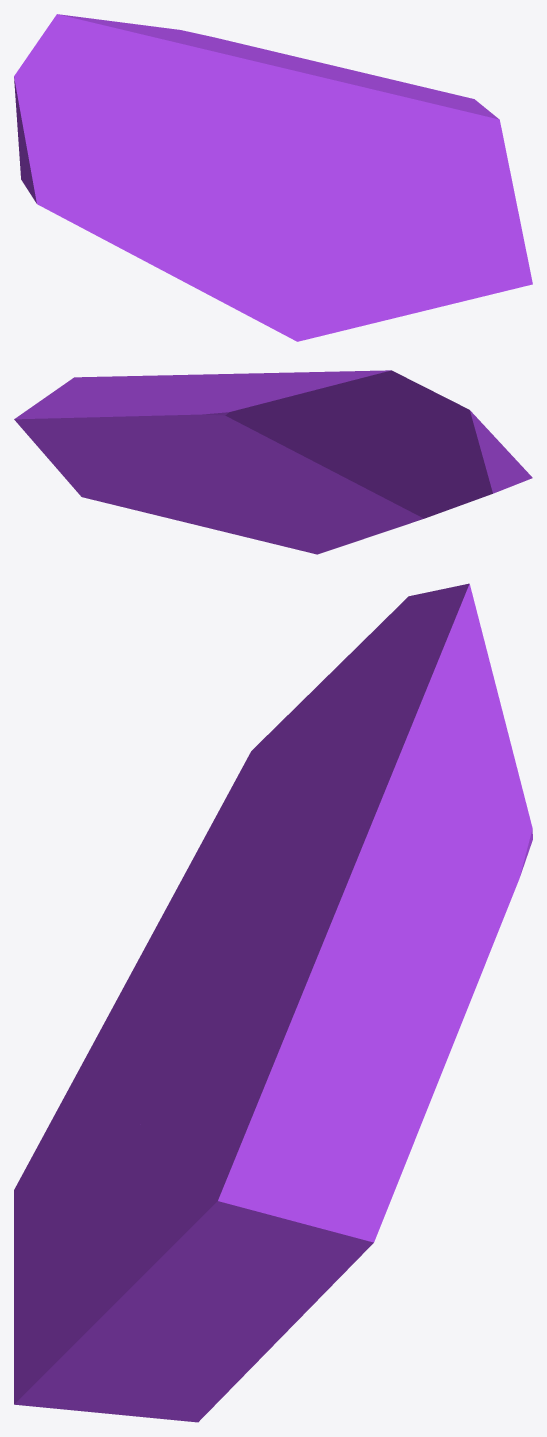
The model's file is Window_129_3_chunks.fbx.
3 renders of one model, top to bottom at view 1: azimuth 30°, elevation 25°; view 2: azimuth 150°, elevation 25°; view 3: azimuth 270°, elevation 25°, orthographic. The views are drawn at different scales.
Visible parts, largest first — view 1: Window_129_3_3, Window_129_3_1, Window_129_3_2; view 2: Window_129_3_2, Window_129_3_3, Window_129_3_0, Window_129_3_1; view 3: Window_129_3_3, Window_129_3_2, Window_129_3_1.
Boxes of the visible parts, box(x1,y1,x2,y2) form: Window_129_3_3: box(248, 45, 532, 308); Window_129_3_1: box(33, 135, 434, 341); Window_129_3_2: box(14, 14, 258, 197); Window_129_3_2: box(178, 370, 527, 522); Window_129_3_3: box(14, 373, 245, 529); Window_129_3_0: box(216, 449, 345, 544); Window_129_3_1: box(277, 473, 532, 554); Window_129_3_3: box(14, 865, 500, 1422); Window_129_3_2: box(264, 583, 532, 927); Window_129_3_1: box(14, 739, 271, 1314).
Bounding box in the file's own units: 557 × 302 × 285.
